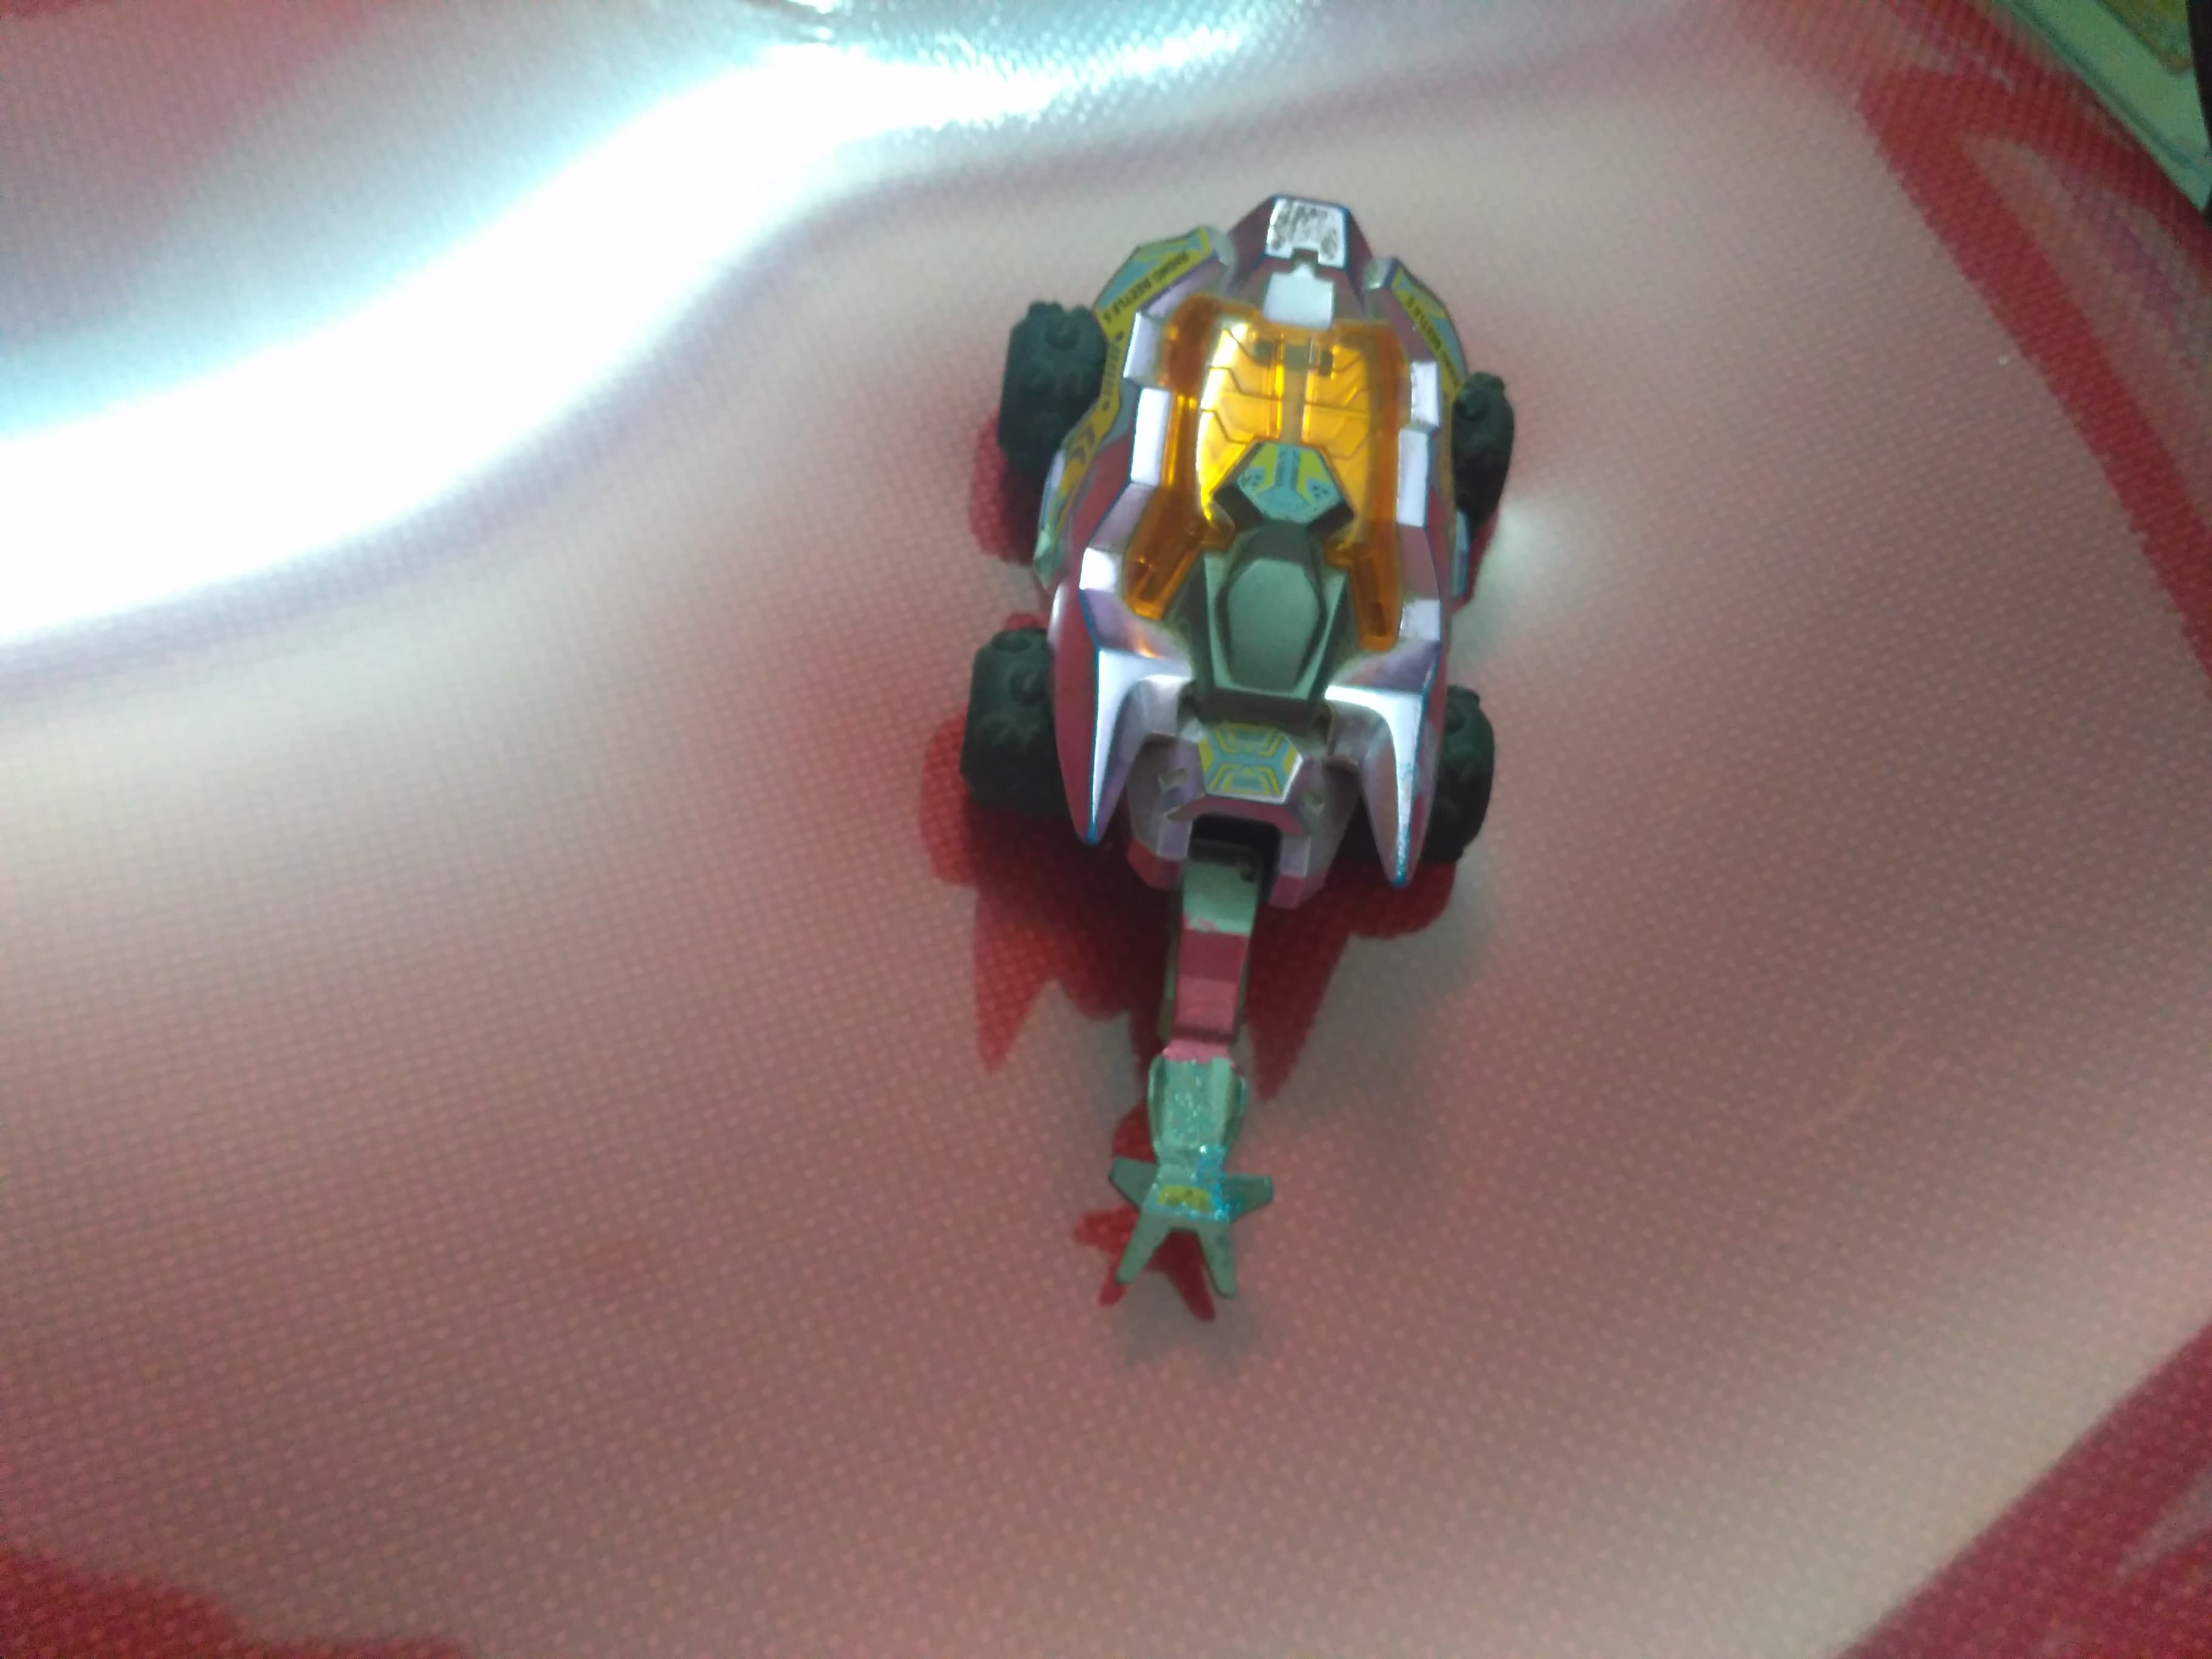rhino: (958, 188, 1531, 1323)
